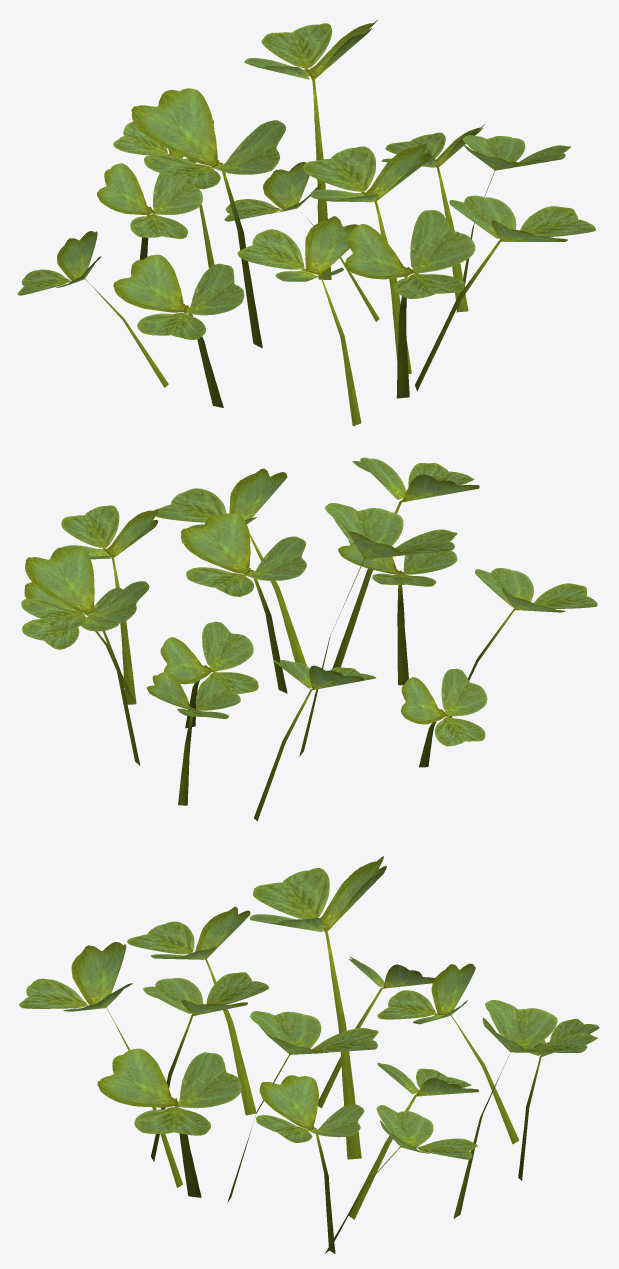
The model's file is ground_plant_01.obj.
3 views of the same model, one above another, from view 1: azimuth 30°, elevation 25°; view 2: azimuth 150°, elevation 25°; view 3: azimuth 270°, elevation 25° (orthographic). The views are drawn at different scales.
Visible parts, largest first — view 1: Ground_Plant_01; view 2: Ground_Plant_01; view 3: Ground_Plant_01.
Boxes of the visible parts, x1,y1,x2,y2 form: Ground_Plant_01: (17, 19, 595, 426); Ground_Plant_01: (21, 457, 597, 821); Ground_Plant_01: (19, 856, 599, 1253).
Bounding box in the file's own units: 0.5751 × 0.2922 × 0.5915.
1 material, 1 textured.
